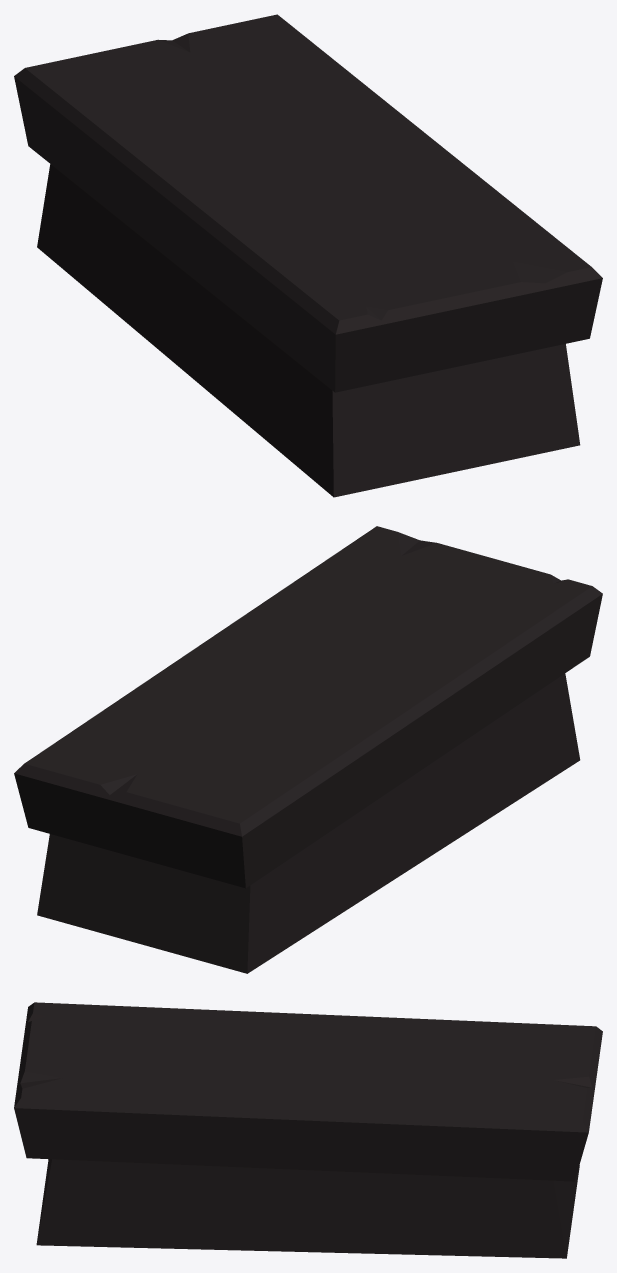
File: cuttingStone.fbx
3 renders of one model, top to bottom at view 1: azimuth 30°, elevation 25°; view 2: azimuth 150°, elevation 25°; view 3: azimuth 270°, elevation 25°, orthographic. The views are drawn at different scales.
Parts seen in each view (by area): view 1: cuttingStone; view 2: cuttingStone; view 3: cuttingStone.
Boxes of the visible parts, bbox=[...] form: cuttingStone: bbox=[14, 14, 602, 497]; cuttingStone: bbox=[14, 526, 602, 973]; cuttingStone: bbox=[14, 1002, 602, 1258].
Bounding box in the file's own units: 70.46 × 42.16 × 152.
Materials: 1 (1 with a texture image).
